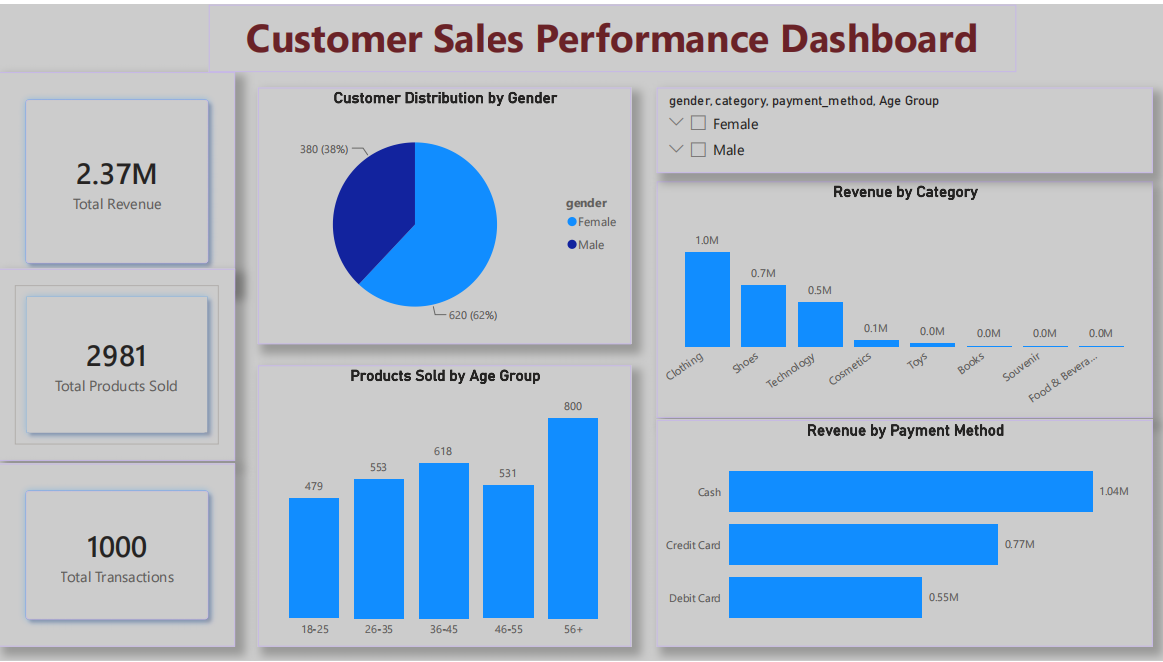

What the dashboard file says about the page in this screenshot:
{"tool":"powerbi","page":{"name":"Page 1","canvas":[1280,720],"ordinal":0},"visuals":[{"type":"cardVisual","fields":{"Data":["customer.Total Revenue"]},"box":[0,73.8,260,240],"z":0},{"type":"cardVisual","fields":{"Data":["customer.Total products sold"]},"box":[0,290,260,211.2],"z":1000},{"type":"cardVisual","fields":{"Data":["CountNonNull(customer.invoice_no)"]},"box":[0,503.8,260,201.2],"z":2000},{"type":"clusteredColumnChart","title":"Revenue by Category","fields":{"Category":["customer.category"],"Y":["customer.Total Revenue"]},"box":[722.5,193.8,545,260],"z":3000},{"type":"pieChart","title":" Customer Distribution by Gender","fields":{"Category":["customer.gender"],"Y":["CountNonNull(customer.invoice_no)"]},"box":[285,91.2,410,281.2],"z":4000},{"type":"clusteredBarChart","title":" Revenue by Payment Method","fields":{"Category":["customer.payment_method"],"Y":["customer.Total Revenue"]},"box":[722.5,456.2,545,248.8],"z":5000},{"type":"clusteredColumnChart","title":"Products Sold by Age Group","fields":{"Y":["Sum(customer.quantity)"],"Category":["customer.Age Group"]},"box":[285,396.2,410,308.8],"z":6000},{"type":"slicer","fields":{"Values":["customer.gender","customer.category","customer.payment_method","customer.Age Group"]},"box":[722.5,91.2,545,93.8],"z":7000},{"type":"textbox","box":[231.2,0,886.2,73.8],"z":8000}]}

Visuals, with their boxes in screenshot pixels (x1, y1, x2, y2), scaled from the page's 1280x720 canvas onto the 1163x662 screenshot:
cardVisual - customer.Total Revenue: bbox=(0, 68, 236, 289)
cardVisual - customer.Total products sold: bbox=(0, 267, 236, 461)
cardVisual - CountNonNull(customer.invoice_no): bbox=(0, 463, 236, 648)
"Revenue by Category" clusteredColumnChart: bbox=(656, 178, 1152, 417)
" Customer Distribution by Gender" pieChart: bbox=(259, 84, 631, 342)
" Revenue by Payment Method" clusteredBarChart: bbox=(656, 419, 1152, 648)
"Products Sold by Age Group" clusteredColumnChart: bbox=(259, 364, 631, 648)
slicer - customer.gender x customer.category: bbox=(656, 84, 1152, 170)
textbox: bbox=(210, 0, 1015, 68)
